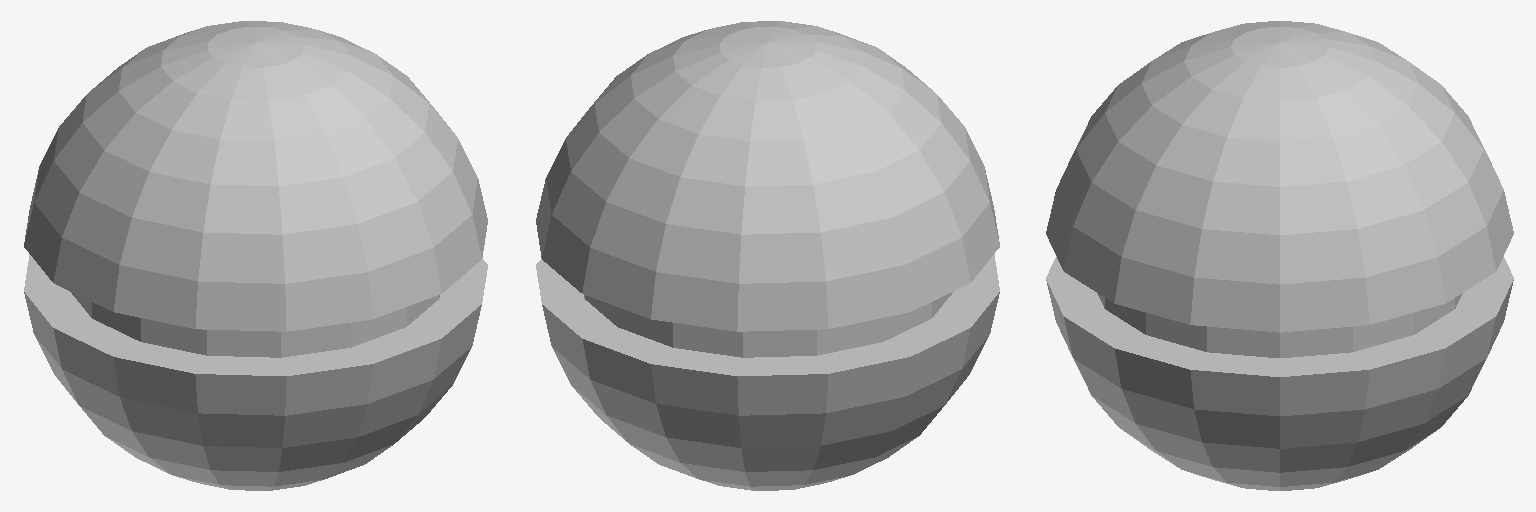
Rendered from constructorDrone.obj.
The picture shows the model from 3 angles: view 1: azimuth 30°, elevation 25°; view 2: azimuth 150°, elevation 25°; view 3: azimuth 270°, elevation 25°; orthographic projection.
Visible parts, largest first — view 1: Sphere; view 2: Sphere; view 3: Sphere.
Boxes of the visible parts, x1=… form: Sphere: x1=24, y1=21, x2=487, y2=490; Sphere: x1=536, y1=21, x2=999, y2=490; Sphere: x1=1046, y1=21, x2=1513, y2=490.
Size of the model in its own units: 1.99 by 2 by 1.99.